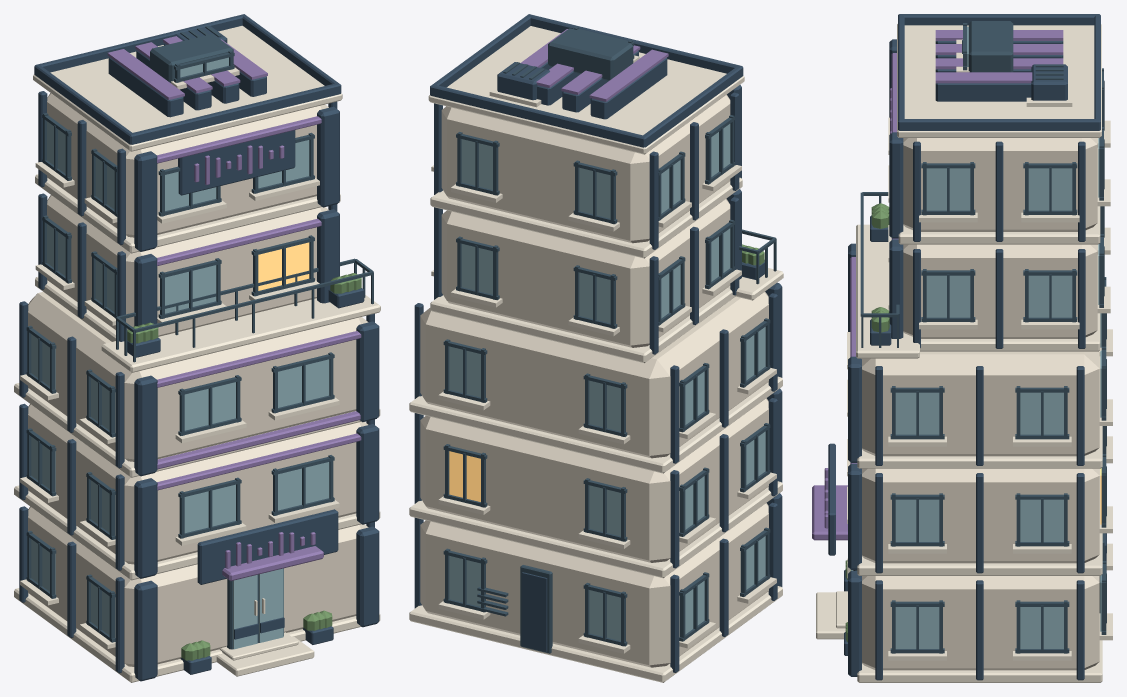
The model's file is media-l05.glb.
3 views of the same model, side by side, from view 1: azimuth 30°, elevation 25°; view 2: azimuth 150°, elevation 25°; view 3: azimuth 270°, elevation 25° (orthographic). The views are drawn at different scales.
Visible parts, largest first — view 1: media_L05; view 2: media_L05; view 3: media_L05.
Part boxes in pixels (x1,y1,x2,y2): media_L05: (14,14,380,682); media_L05: (409,14,783,682); media_L05: (812,14,1112,682).
Size of the model in its own units: 5.77 by 11.55 by 5.39.
